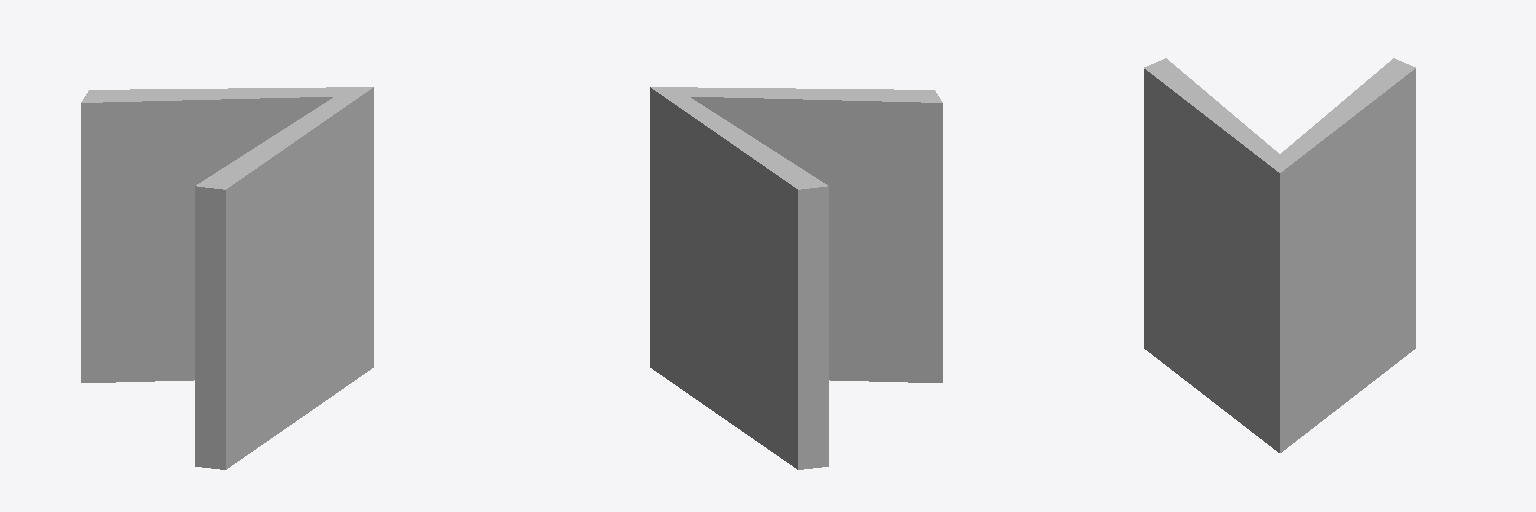
File: vehicle.obj
3 renders of one model, left to right at view 1: azimuth 30°, elevation 25°; view 2: azimuth 150°, elevation 25°; view 3: azimuth 270°, elevation 25°, orthographic.
Visible parts, largest first — view 1: MeshBody1; view 2: MeshBody1; view 3: MeshBody1.
Part boxes in pixels (x1,y1,x2,y2): MeshBody1: (81,87,373,469); MeshBody1: (650,87,942,469); MeshBody1: (1144,58,1415,452).
Size of the model in its own units: 6 by 6.8 by 6.